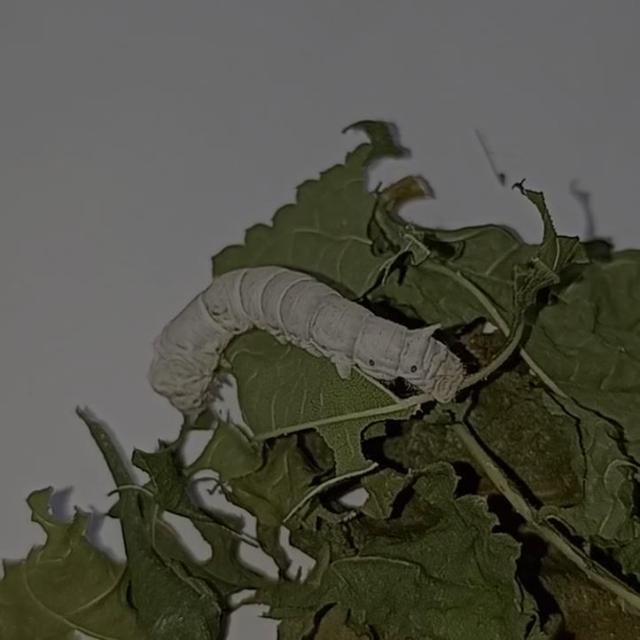Healthy: (141, 253, 477, 434)
